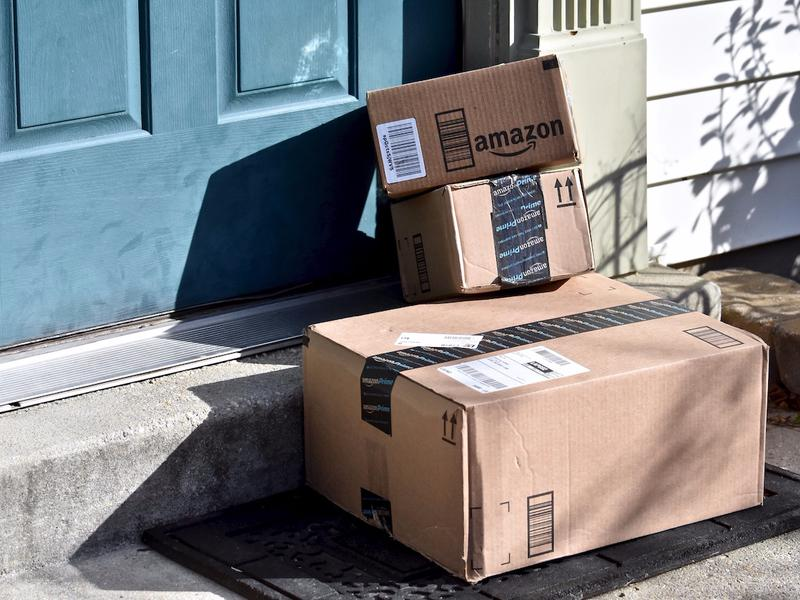package: (290, 270, 775, 584), (357, 45, 588, 202), (376, 162, 602, 297)
